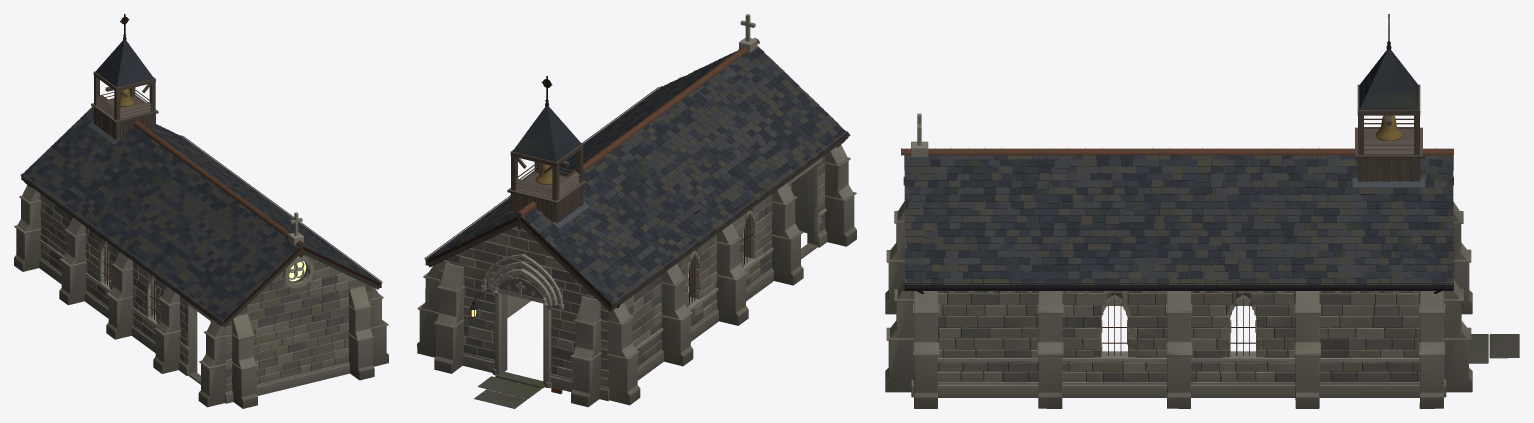
The model's file is chapel-exterior.glb.
3 views of the same model, side by side, from view 1: azimuth 30°, elevation 25°; view 2: azimuth 150°, elevation 25°; view 3: azimuth 270°, elevation 25° (orthographic). The views are drawn at different scales.
Parts seen in each view (by area): view 1: chapel-ext-slates, chapel-ext-ashlar, chapel-ext-buttresses, chapel-ext-dressings, chapel-ext-roof-timber, chapel-ext-bellcote, chapel-ext-walls, chapel-ext-iron; view 2: chapel-ext-slates, chapel-ext-buttresses, chapel-ext-ashlar, chapel-ext-dressings, chapel-ext-roof-timber, chapel-ext-bellcote, chapel-ext-walls, chapel-ext-iron; view 3: chapel-ext-slates, chapel-ext-ashlar, chapel-ext-buttresses, chapel-ext-dressings, chapel-ext-iron, chapel-ext-bellcote, chapel-ext-walls, chapel-ext-roof-timber.
Boxes of the visible parts, x1,y1,x2,y2 form: chapel-ext-slates: (20,40,378,323); chapel-ext-ashlar: (40,194,371,391); chapel-ext-buttresses: (14,185,388,408); chapel-ext-dressings: (39,212,349,403); chapel-ext-roof-timber: (21,135,381,327); chapel-ext-bellcote: (91,71,158,139); chapel-ext-walls: (41,210,364,384); chapel-ext-iron: (21,14,382,324); chapel-ext-slates: (425,38,850,305); chapel-ext-buttresses: (417,145,856,407); chapel-ext-ashlar: (438,155,825,387); chapel-ext-dressings: (463,14,827,408); chapel-ext-roof-timber: (425,52,848,311); chapel-ext-bellcote: (507,143,586,223); chapel-ext-walls: (449,165,824,371); chapel-ext-iron: (424,76,848,394); chapel-ext-slates: (901,50,1453,284); chapel-ext-ashlar: (913,291,1444,382); chapel-ext-buttresses: (885,201,1472,408); chapel-ext-dressings: (911,113,1519,397); chapel-ext-iron: (904,14,1463,355); chapel-ext-bellcote: (1355,84,1422,181); chapel-ext-walls: (938,291,1419,381); chapel-ext-roof-timber: (903,155,1453,291).
Size of the model in its own units: 6.7 by 8.6 by 14.8.
